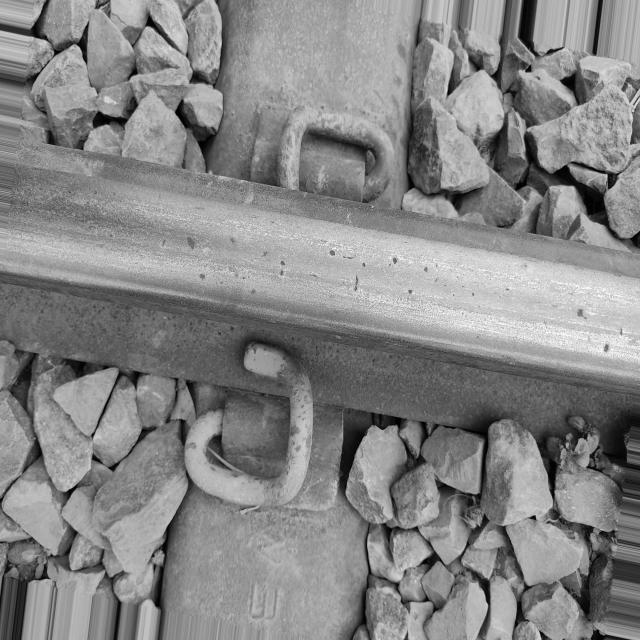squats_high: (575, 306, 625, 356), (327, 246, 367, 292), (391, 252, 428, 296), (182, 233, 200, 257), (276, 255, 288, 279), (196, 271, 206, 284), (229, 234, 237, 244)
